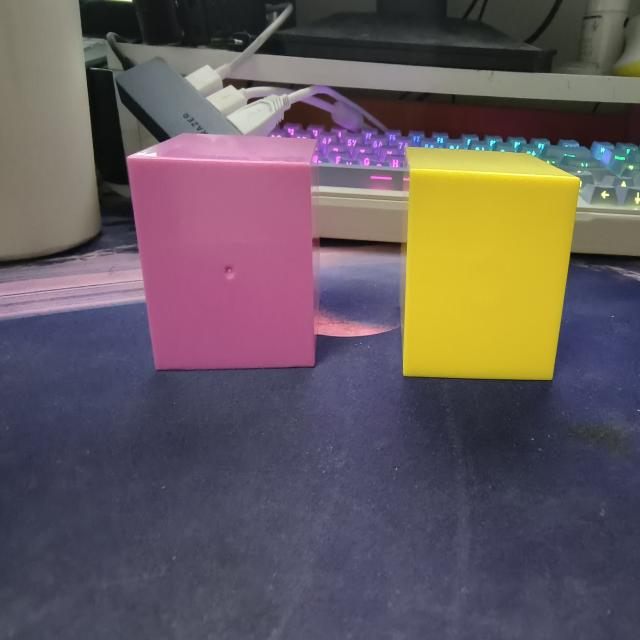pink: (126, 134, 317, 373)
yellow: (401, 148, 581, 384)
